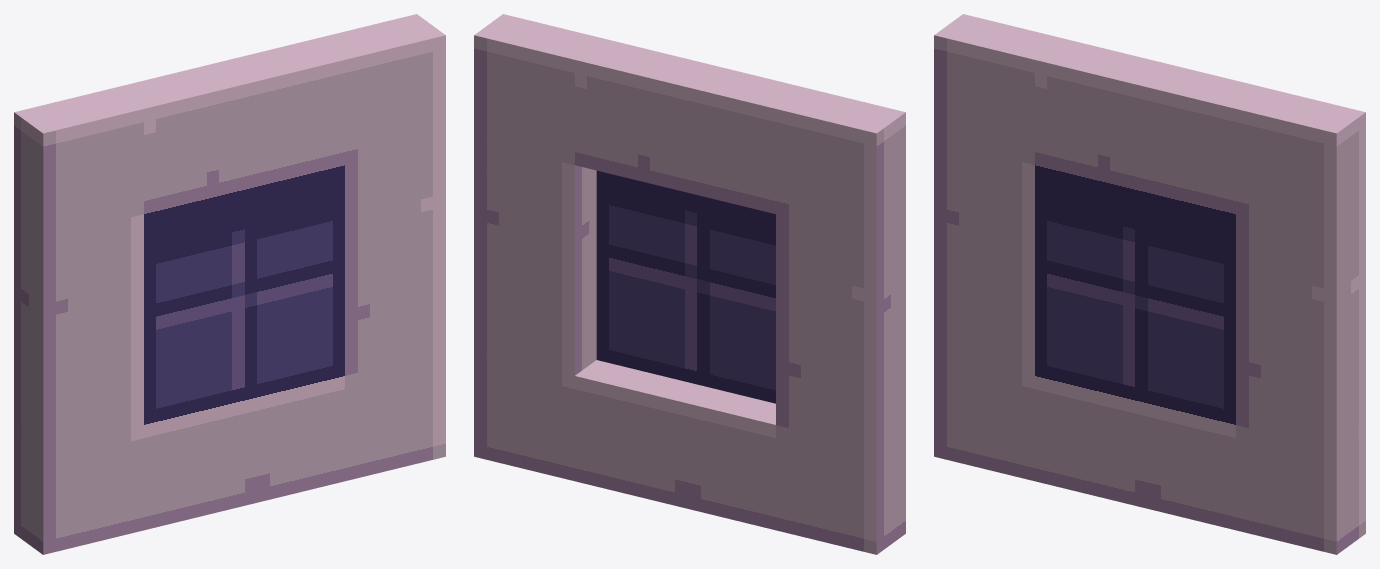
The model's file is visitor_dao.fezao.glb.
3 renders of one model, left to right at view 1: azimuth 30°, elevation 25°; view 2: azimuth 150°, elevation 25°; view 3: azimuth 330°, elevation 25°, orthographic.
Visible parts, largest first — view 1: VISITOR_DAO; view 2: VISITOR_DAO; view 3: VISITOR_DAO.
Part boxes in pixels (x1,y1,x2,y2): VISITOR_DAO: (14, 14, 445, 554); VISITOR_DAO: (474, 14, 905, 554); VISITOR_DAO: (934, 14, 1365, 554).
Bounding box in the file's own units: 2 × 2 × 0.25.
1 material, 1 textured.
